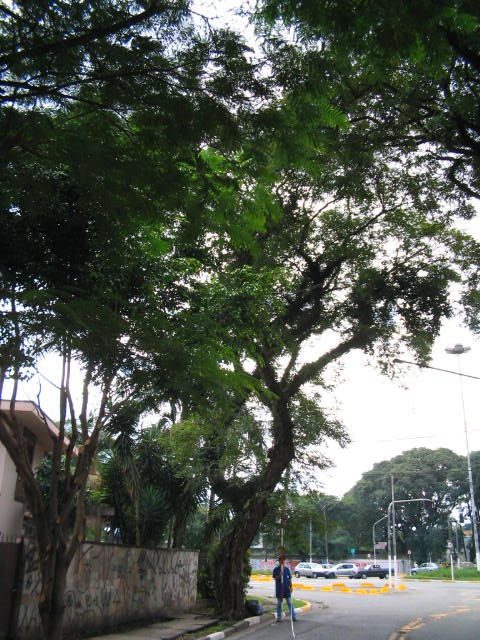crown: (67, 26, 476, 379)
stem: (200, 509, 272, 618)
stick: (271, 511, 289, 621)
tree: (64, 26, 479, 614)
